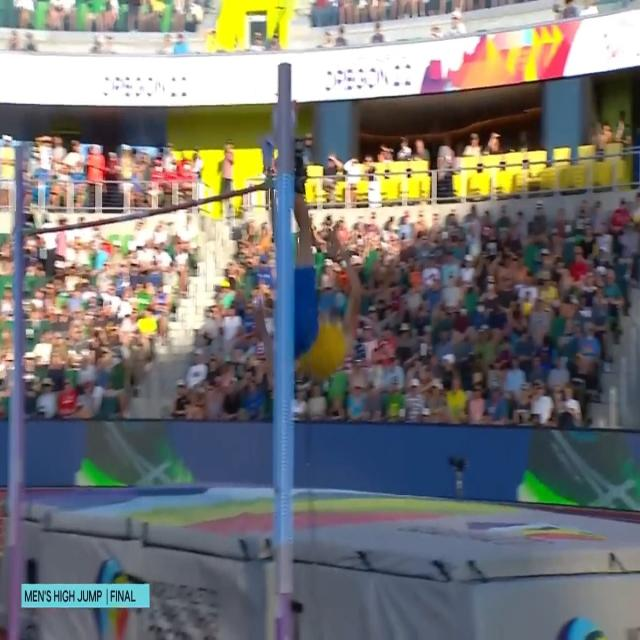land: (292, 150, 362, 381)
